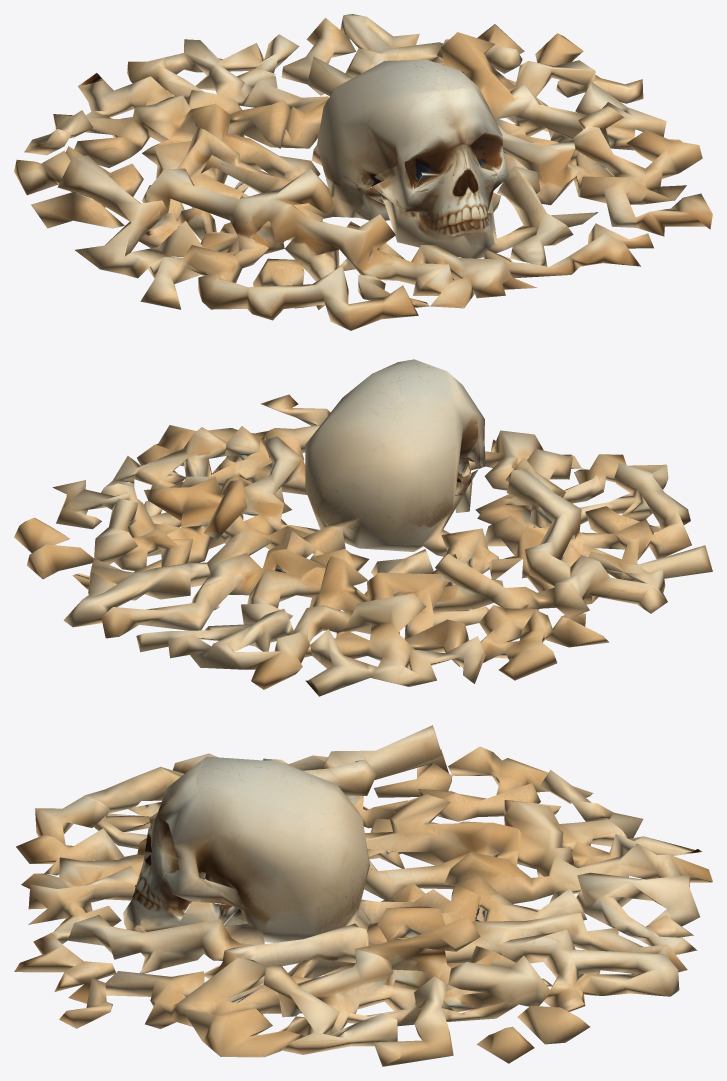
The model's file is p_a_small_dis.glb.
3 views of the same model, one above another, from view 1: azimuth 30°, elevation 25°; view 2: azimuth 150°, elevation 25°; view 3: azimuth 270°, elevation 25° (orthographic). The views are drawn at different scales.
Visible parts, largest first — view 1: Mesh_0; view 2: Mesh_0; view 3: Mesh_0.
Part boxes in pixels (bbox=[...]): Mesh_0: bbox=[14, 14, 712, 330]; Mesh_0: bbox=[14, 359, 712, 696]; Mesh_0: bbox=[14, 725, 712, 1066].
Bounding box in the file's own units: 1.9 × 0.4552 × 1.83.
1 material, 1 textured.
